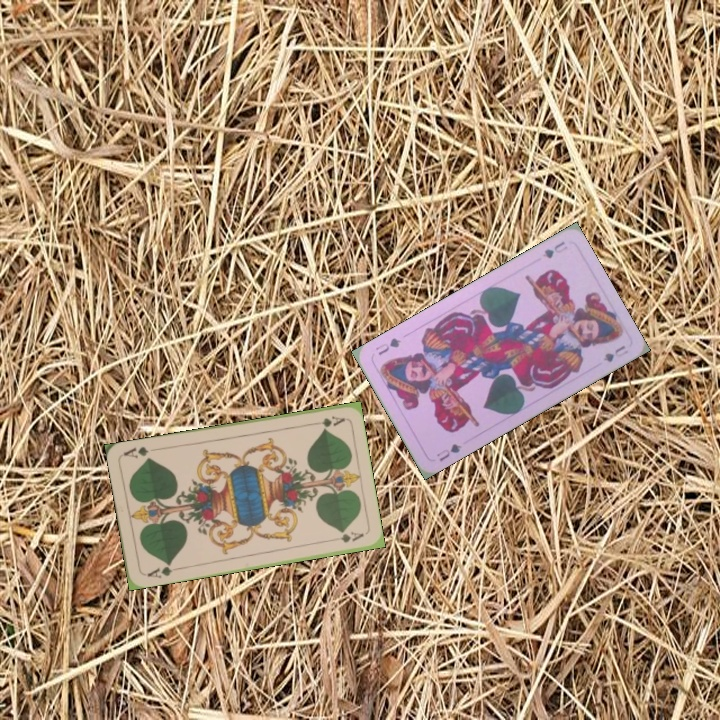GA: (141, 559, 181, 581), (307, 412, 347, 430)
GU: (432, 439, 464, 464), (539, 237, 570, 261)
